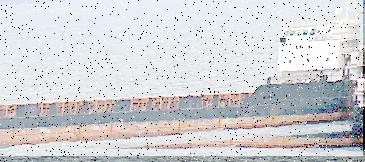Ship: (0, 0, 363, 156)
